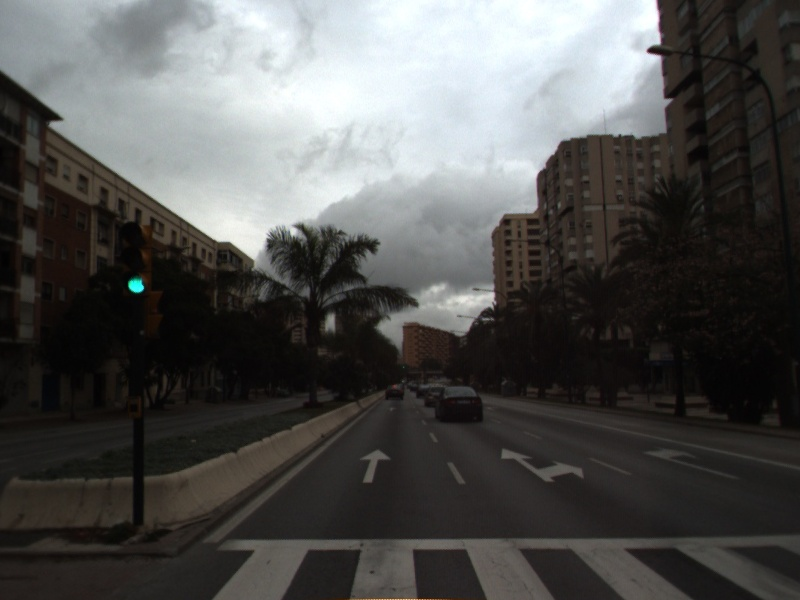RIGHT: (640, 445, 742, 482)
STRAIGHT: (358, 447, 394, 485)
STRAIGHT_RIGHT: (499, 445, 586, 484)
